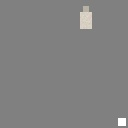supply_truck: (80, 12, 92, 29)
